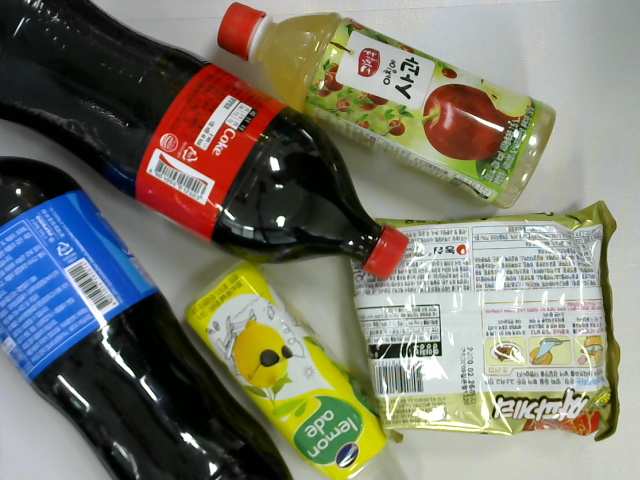Coca_Cola_1.5L: (1, 1, 413, 282)
Morning_Apple_500ml: (214, 1, 558, 213)
Olive_Chapaghetti: (344, 200, 620, 442)
Pepsi_Cola_1.5L: (1, 149, 296, 480)
Sunkist_Lemonaid_Pet: (183, 255, 414, 480)
